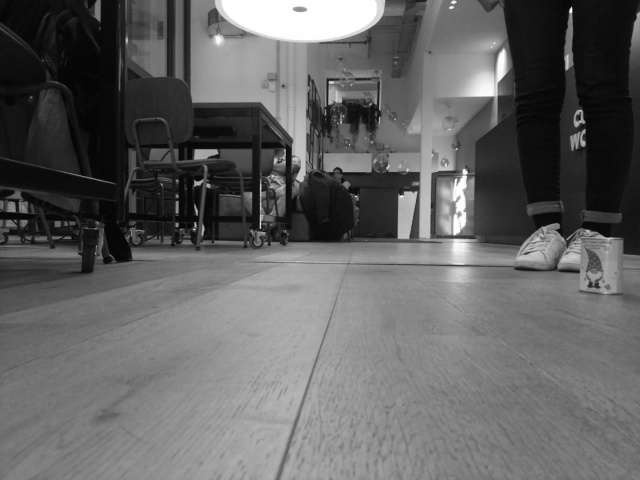gnome: (583, 245, 613, 291)
